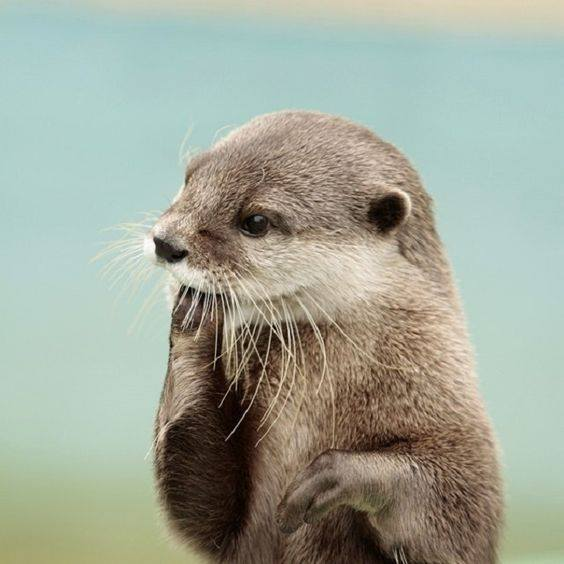otter: (130, 95, 500, 564)
